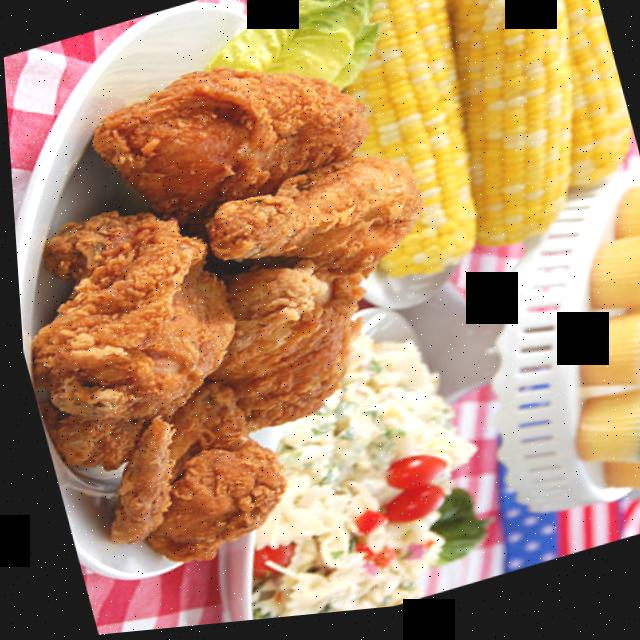Frango: (2, 8, 508, 599)
